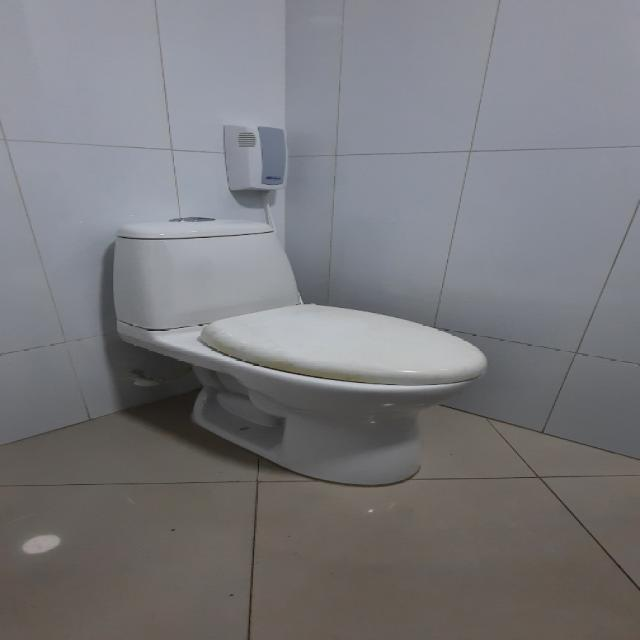toilet: (111, 216, 488, 486)
